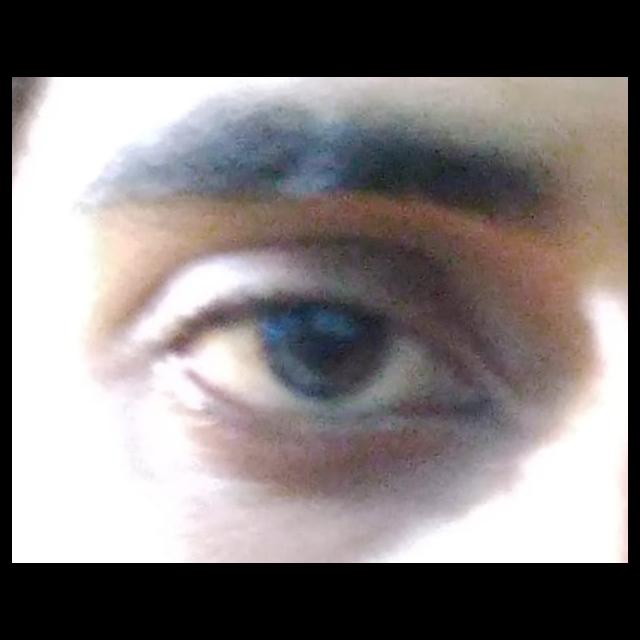eye: (177, 302, 435, 417)
iris: (265, 309, 393, 401)
